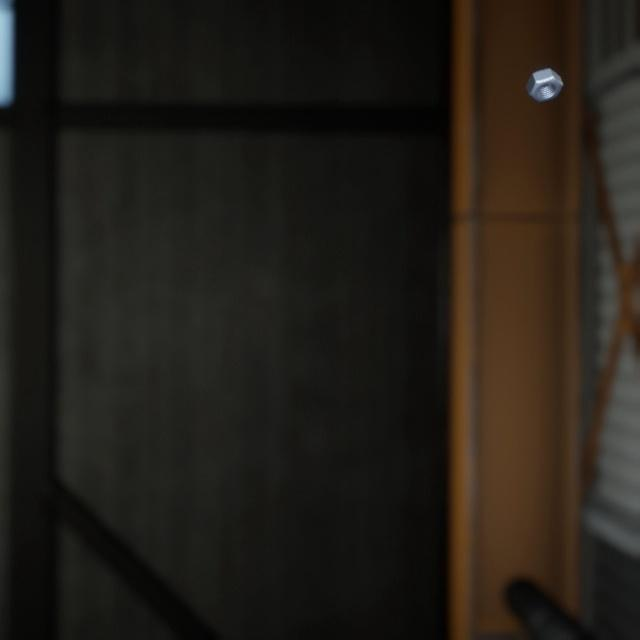nut: (521, 52, 568, 96)
